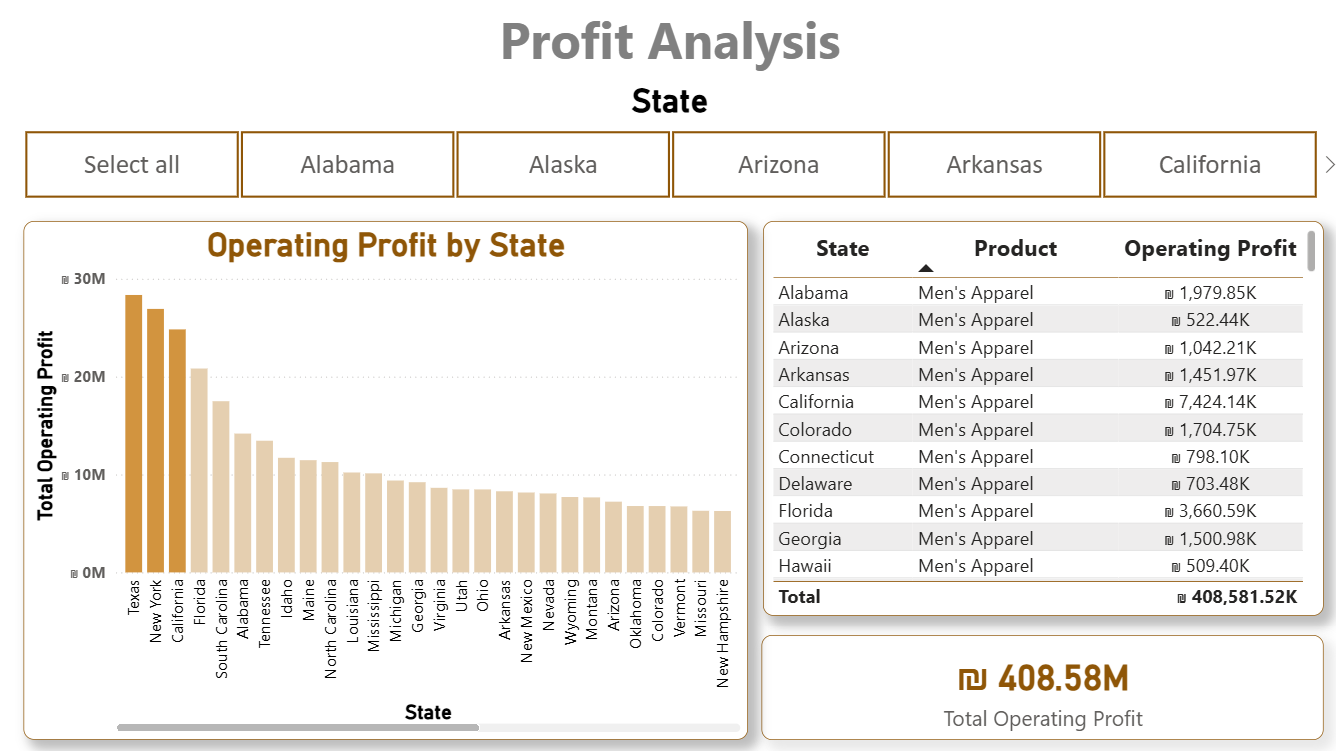

What the dashboard file says about the page in this screenshot:
{"tool":"powerbi","page":{"name":"Profit Analysis","canvas":[1280,720],"ordinal":2},"visuals":[{"type":"slicer","title":"State","fields":{"Values":["Dim_Geography.State"]},"box":[0,78,1280,118],"z":0},{"type":"textbox","box":[270,0,740,84],"z":1000},{"type":"card","fields":{"Values":["MeasuresTable.Total Profit Per Year"]},"box":[727.5,605,535,100],"z":2000},{"type":"tableEx","fields":{"Values":["Dim_Geography.State","Dim_Product.Product","Sum(Fact_Sales.Operating Profit)"]},"box":[728,212,534,376],"z":3000},{"type":"clusteredColumnChart","title":"Operating Profit by State","fields":{"Category":["Dim_Geography.State"],"Y":["MeasuresTable.Total Profit Per Year"]},"box":[24,212,690,494],"z":4000}]}

Visuals, with their boxes in screenshot pixels (x1, y1, x2, y2), scaled from the page's 1280x720 canvas onto the 1336x751 screenshot:
"State" slicer: 0/81/1335/204
textbox: 282/0/1054/88
card - MeasuresTable.Total Profit Per Year: 759/631/1318/735
tableEx - Dim_Geography.State x Dim_Product.Product: 760/221/1317/613
"Operating Profit by State" clusteredColumnChart: 25/221/745/736
